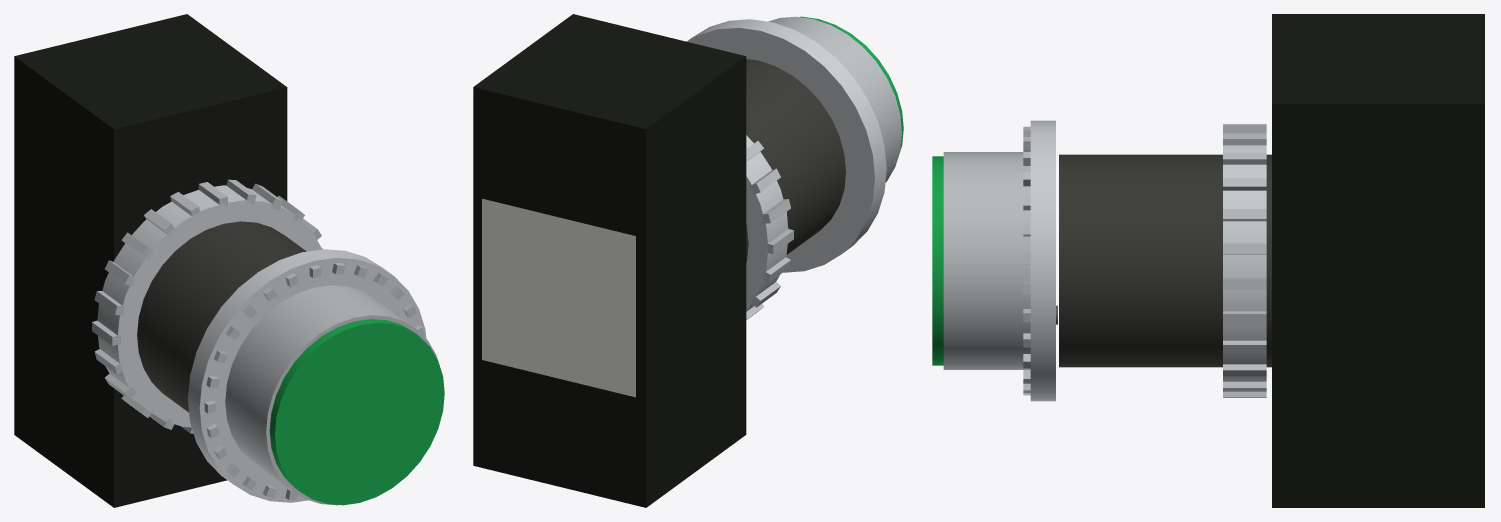
Rendered from pushButtonXb2No.glb.
3 renders of one model, left to right at view 1: azimuth 30°, elevation 25°; view 2: azimuth 150°, elevation 25°; view 3: azimuth 270°, elevation 25°, orthographic. The views are drawn at different scales.
Visible parts, largest first — view 1: industrial_xb2_contact, industrial_xb2_cap_face, industrial_xb2_body, industrial_xb2_bezel, industrial_xb2_cap, industrial_xb2_locknut; view 2: industrial_xb2_contact, industrial_xb2_etch_back, industrial_xb2_bezel, industrial_xb2_body, industrial_xb2_cap, industrial_xb2_locknut, industrial_xb2_cap_face; view 3: industrial_xb2_contact, industrial_xb2_body, industrial_xb2_cap, industrial_xb2_bezel, industrial_xb2_locknut, industrial_xb2_cap_face, industrial_xb2_locknut_knurl_23.
Boxes of the visible parts, x1,y1,x2,y2 form: industrial_xb2_contact: [14, 14, 287, 507]; industrial_xb2_cap_face: [269, 319, 444, 505]; industrial_xb2_body: [137, 221, 306, 412]; industrial_xb2_bezel: [188, 249, 426, 502]; industrial_xb2_cap: [225, 285, 437, 505]; industrial_xb2_locknut: [97, 185, 321, 427]; industrial_xb2_contact: [473, 14, 746, 507]; industrial_xb2_etch_back: [482, 198, 635, 397]; industrial_xb2_bezel: [687, 19, 886, 272]; industrial_xb2_body: [746, 59, 845, 262]; industrial_xb2_cap: [768, 16, 901, 182]; industrial_xb2_locknut: [746, 135, 788, 311]; industrial_xb2_cap_face: [800, 16, 903, 150]; industrial_xb2_contact: [1272, 14, 1484, 507]; industrial_xb2_body: [1059, 154, 1271, 367]; industrial_xb2_cap: [943, 152, 1030, 369]; industrial_xb2_bezel: [1030, 120, 1055, 401]; industrial_xb2_locknut: [1223, 133, 1266, 381]; industrial_xb2_cap_face: [932, 156, 943, 365]; industrial_xb2_locknut_knurl_23: [1223, 340, 1266, 353].
Size of the model in its own units: 0.029 by 0.0463 by 0.0572.
